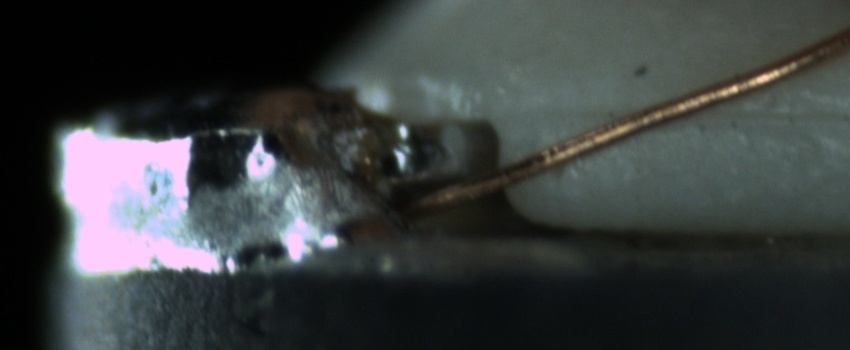DL: (540, 80, 850, 148)
